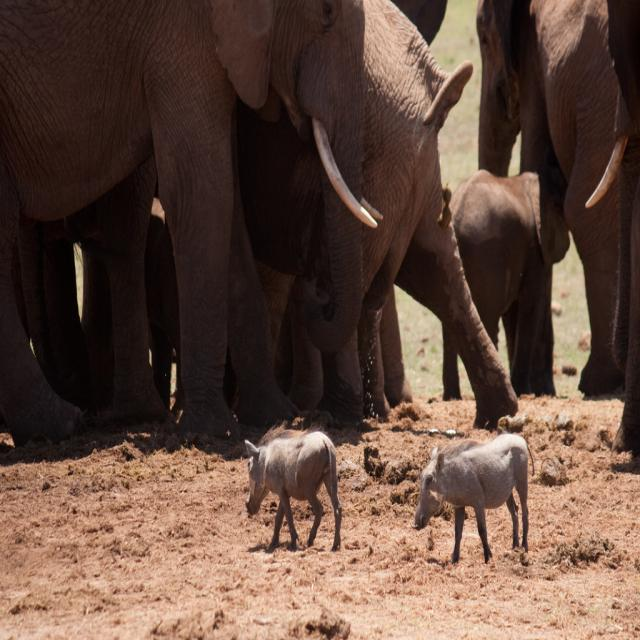elephant: (26, 1, 498, 434), (432, 1, 639, 414), (567, 0, 639, 474)
